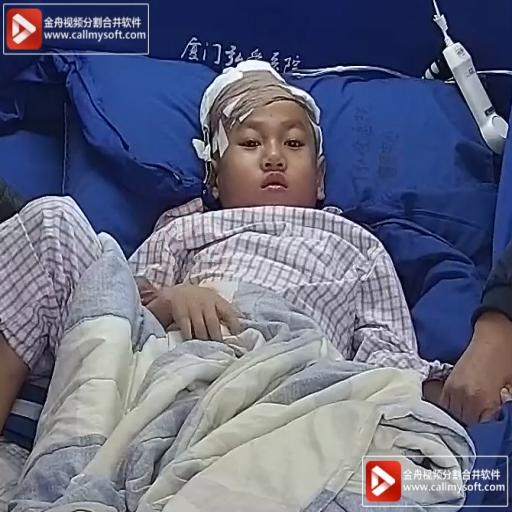Netural: (197, 80, 326, 220)
